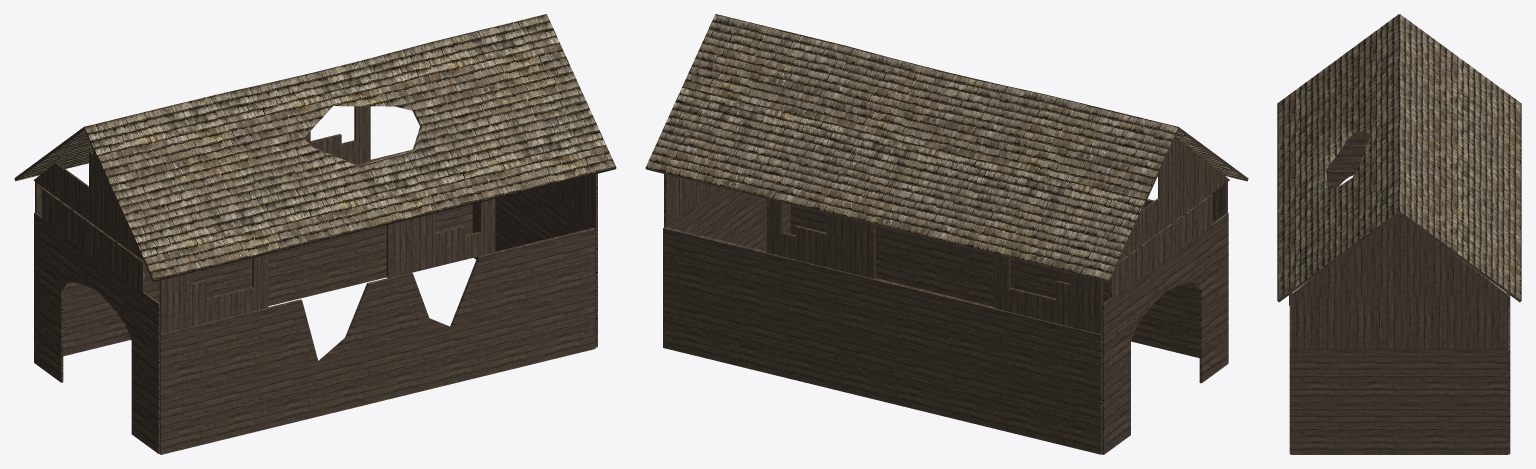
File: f1_barn01_lod3.fbx
3 views of the same model, side by side, from view 1: azimuth 30°, elevation 25°; view 2: azimuth 150°, elevation 25°; view 3: azimuth 270°, elevation 25° (orthographic). The views are drawn at different scales.
Parts seen in each view (by area): view 1: Mesh Object; view 2: Mesh Object; view 3: Mesh Object.
Part boxes in pixels (x1,y1,x2,y2): Mesh Object: (14,14,616,454); Mesh Object: (645,14,1248,454); Mesh Object: (1277,14,1521,454).
Size of the model in its own units: 8.35 by 4.92 by 4.37.
